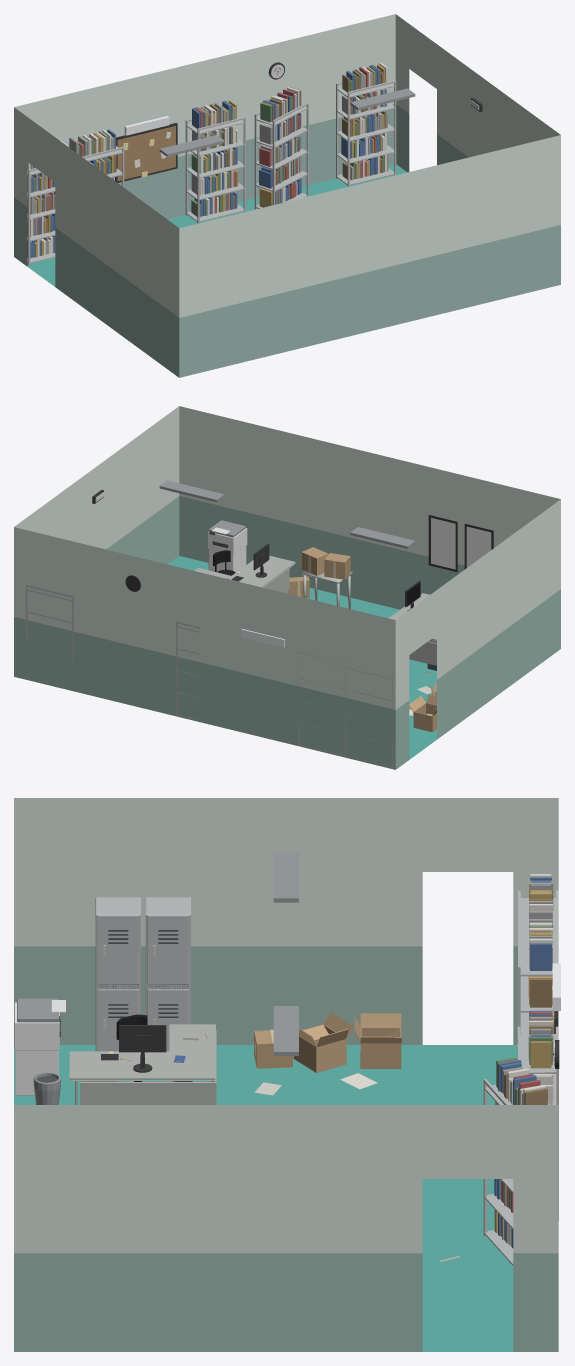
File: oficina_administrativa.fbx
The picture shows the model from 3 angles, top to bottom: view 1: azimuth 30°, elevation 25°; view 2: azimuth 150°, elevation 25°; view 3: azimuth 270°, elevation 25°; orthographic projection. The views are drawn at different scales.
Visible parts, largest first — view 1: Pared_Sur_Alto, Pared_Sur_Bajo, Pared_Norte_Bajo, Pared_Oeste_A_Alto, Pared_Oeste_A_Bajo, Pared_Este_A_Alto, Pared_Norte_Alto, Estante_Metal_03, Estante_Metal_02.002, Pizarra_Corcho, Estante_Metal_02.001, Piso (+31 smaller); view 2: Pared_Norte_Bajo, Pared_Sur_Alto, Pared_Norte_Alto, Pared_Oeste_A_Alto, Pared_Sur_Bajo, Pared_Este_A_Alto, Pared_Oeste_A_Bajo, Piso, Pared_Este_A_Bajo, Marco_Cuadro.001, Pared_Oeste_B_Alto, Pared_Oeste_Dintel (+15 smaller); view 3: Pared_Este_A_Alto, Pared_Oeste_A_Alto, Pared_Este_A_Bajo, Piso, Pared_Oeste_A_Bajo, Pared_Este_B_Alto, Pared_Este_Dintel, Pared_Oeste_Dintel, Escritorio_L_Top, Pared_Este_B_Bajo, Pared_Oeste_B_Alto, Escritorio_Frente (+25 smaller).
Part boxes in pixels (bbox=[...]): Pared_Sur_Alto: bbox=[179, 135, 560, 317]; Pared_Sur_Bajo: bbox=[179, 225, 560, 377]; Pared_Norte_Bajo: bbox=[14, 14, 395, 156]; Pared_Oeste_A_Alto: bbox=[55, 137, 179, 317]; Pared_Oeste_A_Bajo: bbox=[55, 227, 179, 377]; Pared_Este_A_Alto: bbox=[437, 44, 560, 157]; Pared_Norte_Alto: bbox=[118, 104, 393, 219]; Estante_Metal_03: bbox=[336, 79, 396, 186]; Estante_Metal_02.002: bbox=[185, 116, 245, 223]; Pizarra_Corcho: bbox=[117, 126, 175, 180]; Estante_Metal_02.001: bbox=[254, 102, 308, 209]; Piso: bbox=[27, 164, 406, 286]; Pared_Norte_Bajo: bbox=[14, 527, 395, 709]; Pared_Sur_Alto: bbox=[179, 406, 560, 565]; Pared_Norte_Alto: bbox=[14, 617, 395, 769]; Pared_Oeste_A_Alto: bbox=[437, 499, 560, 679]; Pared_Sur_Bajo: bbox=[179, 496, 464, 609]; Pared_Este_A_Alto: bbox=[55, 406, 179, 549]; Pared_Oeste_A_Bajo: bbox=[437, 589, 560, 739]; Piso: bbox=[168, 556, 436, 759]; Pared_Este_A_Bajo: bbox=[106, 496, 179, 564]; Marco_Cuadro.001: bbox=[428, 515, 457, 572]; Pared_Oeste_B_Alto: bbox=[395, 610, 409, 709]; Pared_Oeste_Dintel: bbox=[409, 590, 436, 654]; Pared_Este_A_Alto: bbox=[14, 1105, 422, 1253]; Pared_Oeste_A_Alto: bbox=[14, 798, 422, 946]; Pared_Este_A_Bajo: bbox=[14, 1253, 422, 1351]; Piso: bbox=[14, 1045, 517, 1351]; Pared_Oeste_A_Bajo: bbox=[14, 946, 422, 1044]; Pared_Este_B_Alto: bbox=[513, 1105, 558, 1253]; Pared_Este_Dintel: bbox=[422, 1105, 513, 1178]; Pared_Oeste_Dintel: bbox=[422, 798, 513, 871]; Escritorio_L_Top: bbox=[69, 1024, 215, 1080]; Pared_Este_B_Bajo: bbox=[513, 1253, 558, 1351]; Pared_Oeste_B_Alto: bbox=[513, 798, 558, 946]; Escritorio_Frente: bbox=[80, 1082, 216, 1104].
Bounding box in the file's own units: 800 × 301 × 602.
